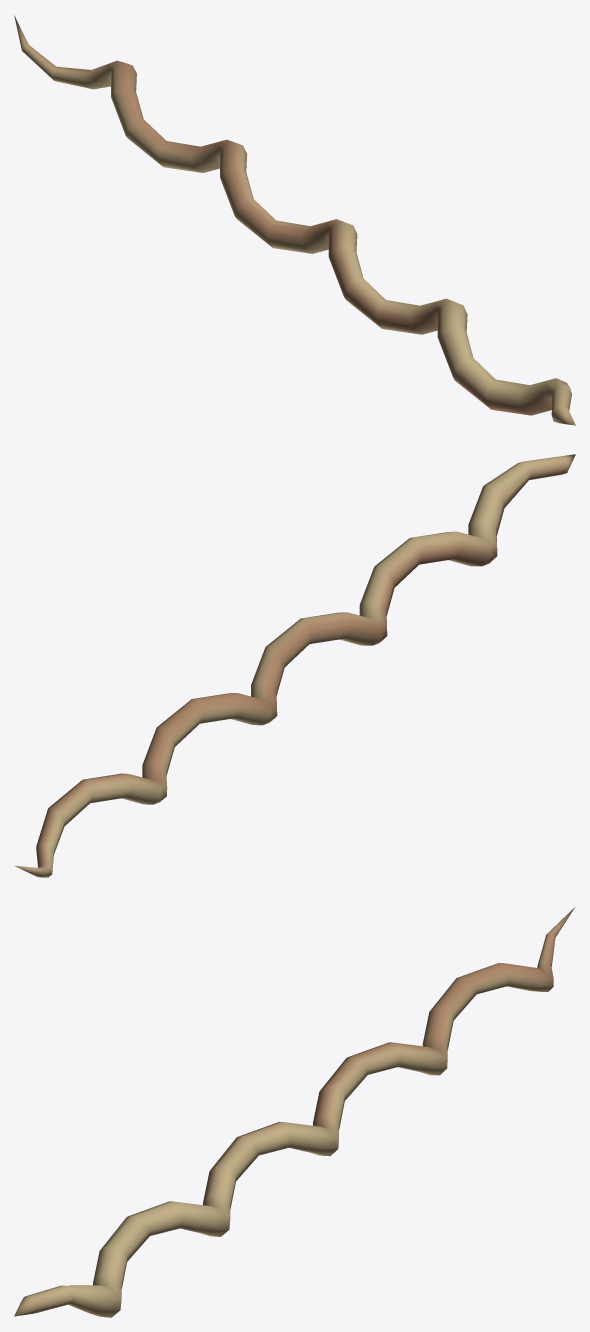
The model's file is microscopic-bacteria-spiral-bacterium_v3.glb.
The picture shows the model from 3 angles, top to bottom: view 1: azimuth 30°, elevation 25°; view 2: azimuth 150°, elevation 25°; view 3: azimuth 330°, elevation 25°; orthographic projection.
Parts seen in each view (by area): view 1: Spiral Bacterium_v3; view 2: Spiral Bacterium_v3; view 3: Spiral Bacterium_v3.
Part boxes in pixels (bbox=[...]): Spiral Bacterium_v3: bbox=[14, 15, 575, 425]; Spiral Bacterium_v3: bbox=[14, 454, 575, 877]; Spiral Bacterium_v3: bbox=[14, 907, 574, 1317].
Bounding box in the file's own units: 0.00639 × 0.00623 × 0.1.
